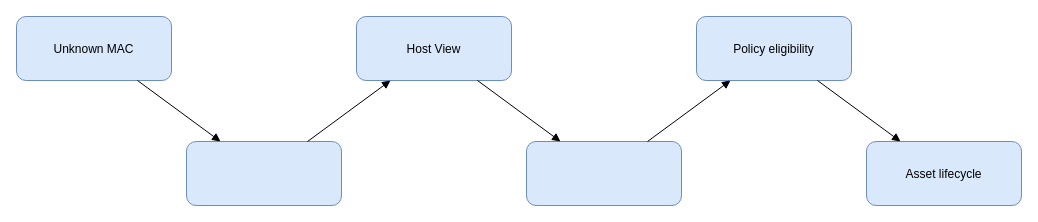
Image size: 1038x222. Some labels were removed from this diagram. The shapes that lost their labels are listed below. From the top down, each one's centre as x and y in pixels, then its label:
At (x=264, y=173): "Register device".
At (x=604, y=173): "Network Inventory".
